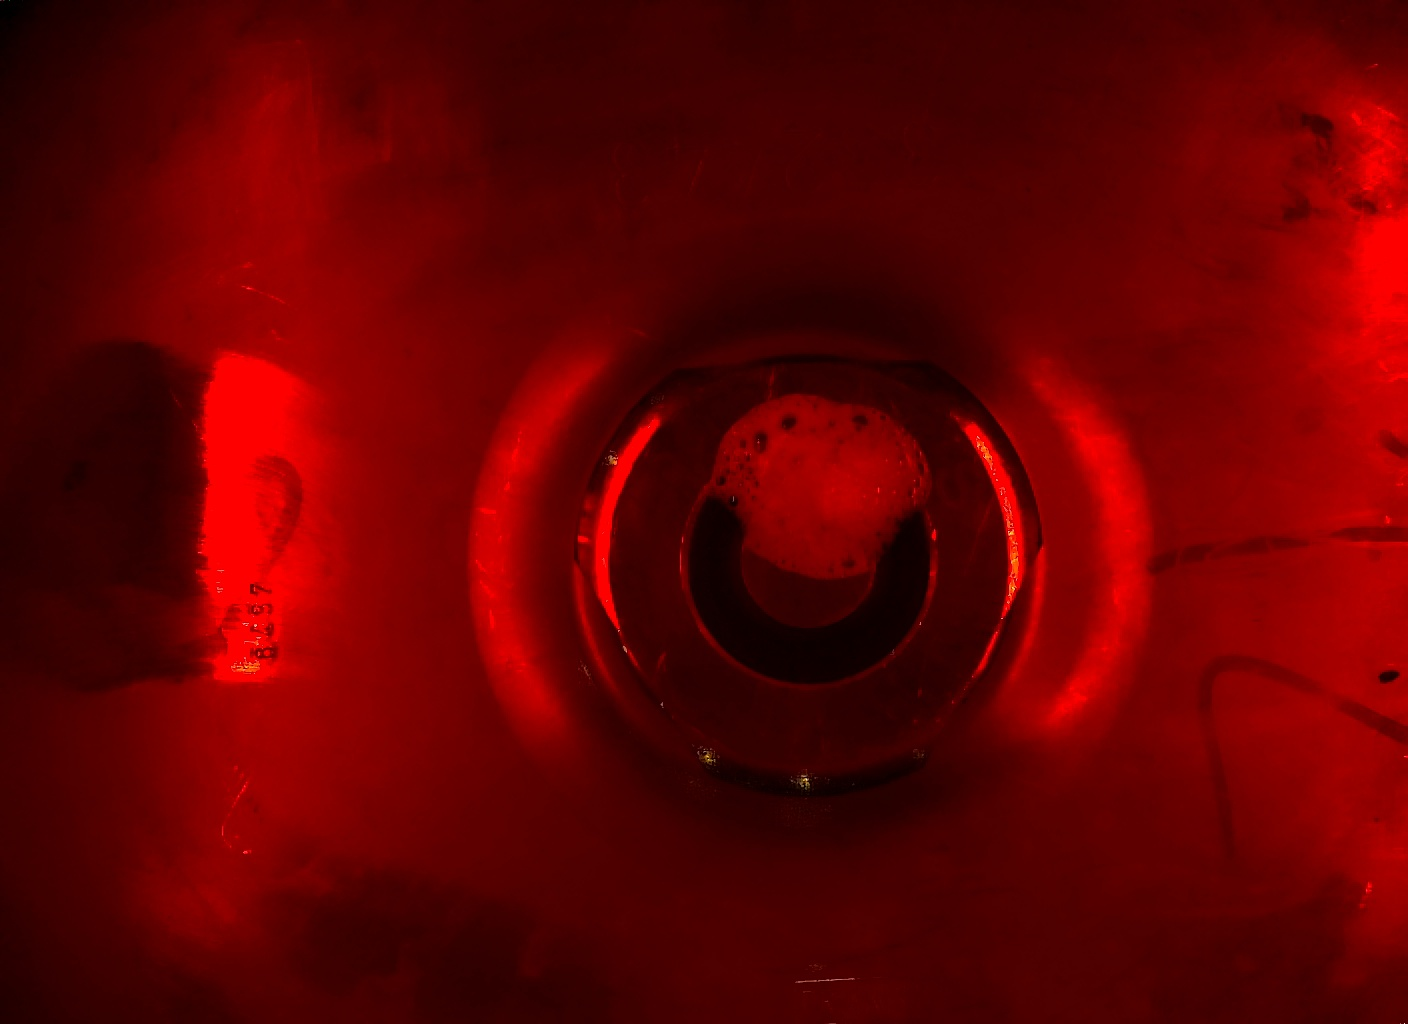pena: (709, 382, 936, 582)
